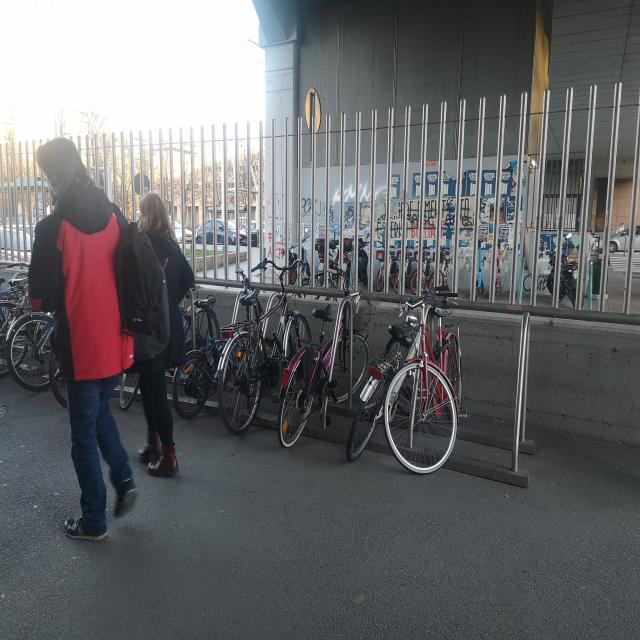Bicycle: (217, 264, 332, 440), (278, 283, 388, 449), (388, 281, 477, 486), (332, 301, 428, 485), (181, 264, 257, 429), (15, 320, 55, 378), (3, 278, 36, 315)
